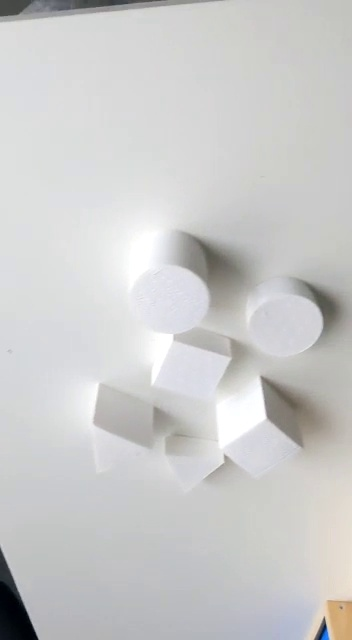Clyinder_short: (240, 273, 326, 360)
Cube: (212, 374, 306, 483)
Cube_short: (146, 317, 233, 407)
Cylinder: (125, 225, 213, 336)
Triangle: (84, 377, 156, 479)
Triangle_short: (160, 429, 225, 491)
